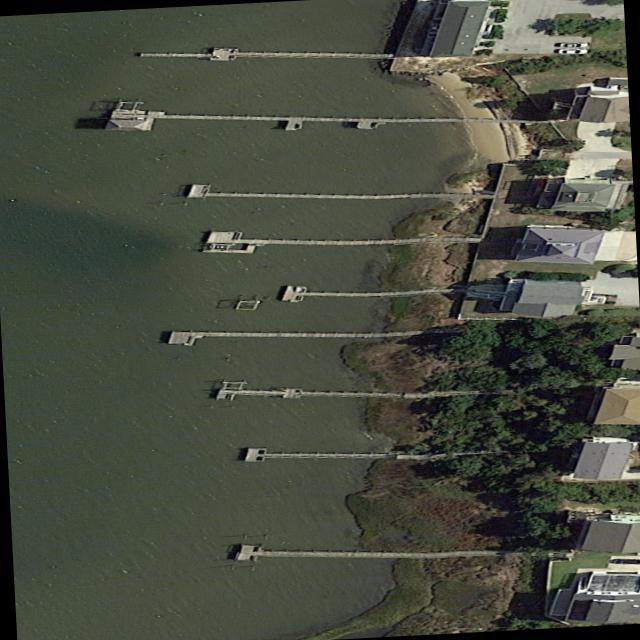small-vehicle: (610, 559, 640, 565), (558, 43, 588, 48), (558, 49, 588, 54)
